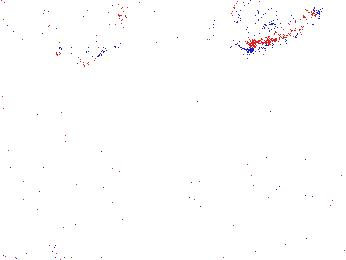moon jellyfish: (119, 1, 215, 78), (45, 1, 127, 57), (229, 1, 320, 51), (1, 7, 53, 91)
